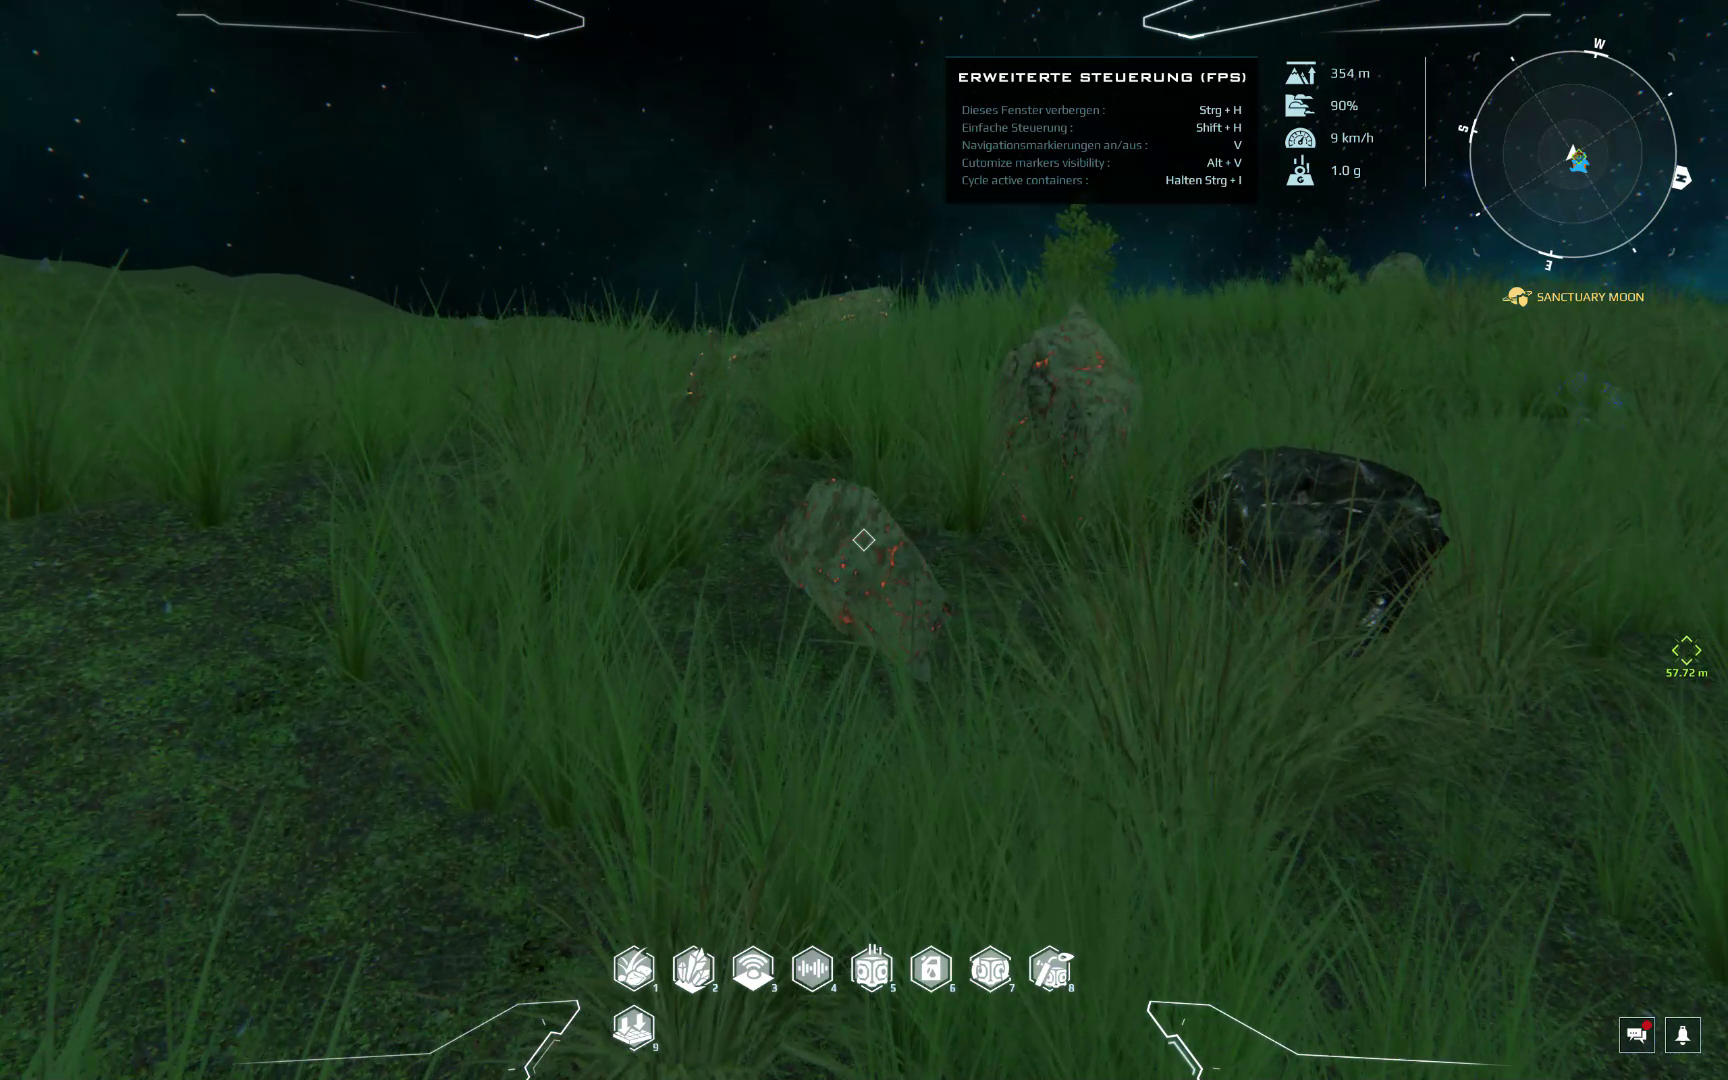Ore: (1186, 443, 1454, 640), (769, 474, 948, 686), (993, 310, 1136, 531), (730, 282, 906, 370), (681, 321, 724, 414)
